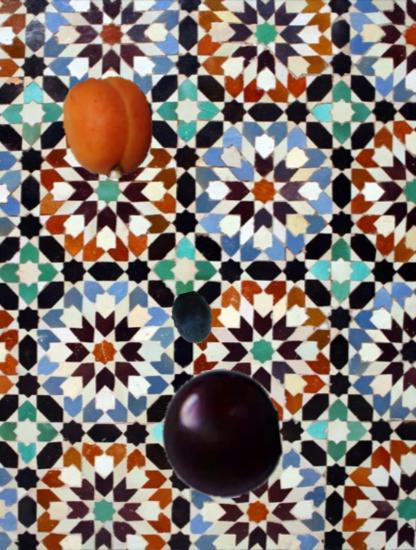Apricot: (57, 75, 162, 180)
Blueberry: (167, 292, 219, 344)
Cherry: (157, 369, 287, 499)
